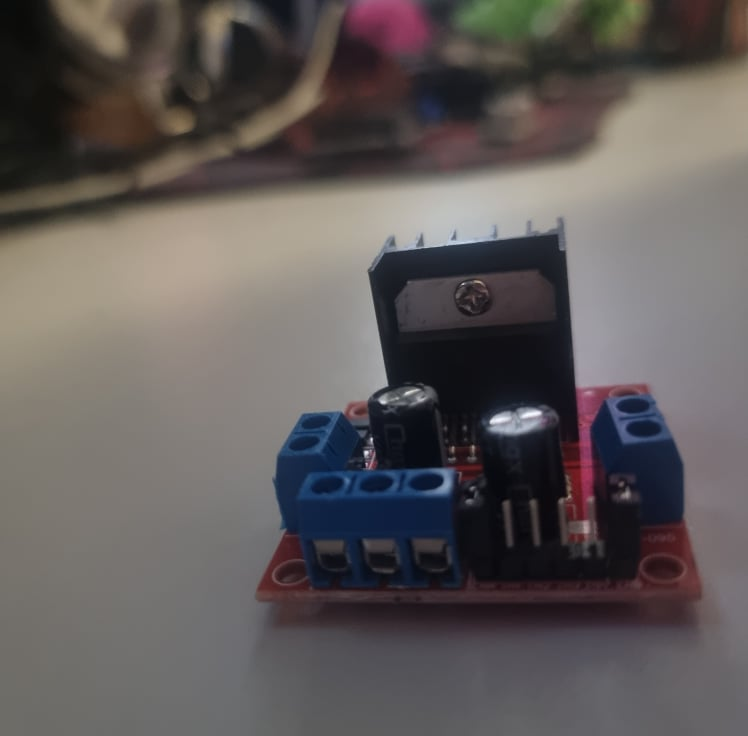MOTOR: (253, 214, 700, 606)
